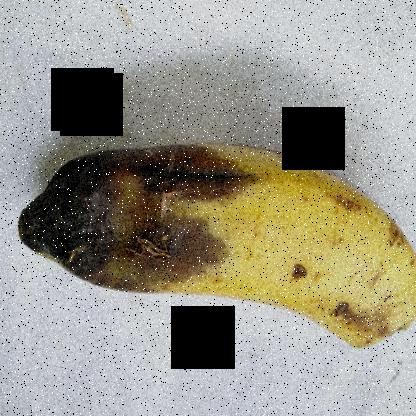rotten: (26, 114, 284, 308), (316, 292, 409, 362)
